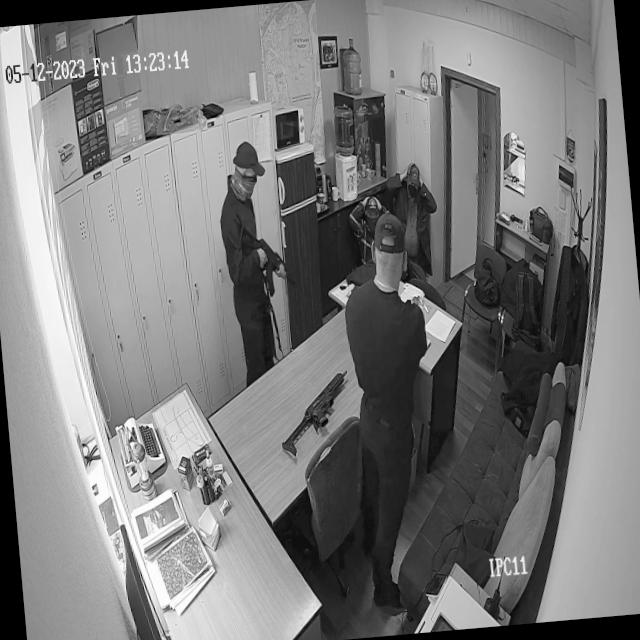gun: (261, 346, 357, 462), (249, 224, 301, 291)
person: (390, 158, 433, 223)
person with a gun: (342, 206, 438, 533), (213, 125, 282, 380)
